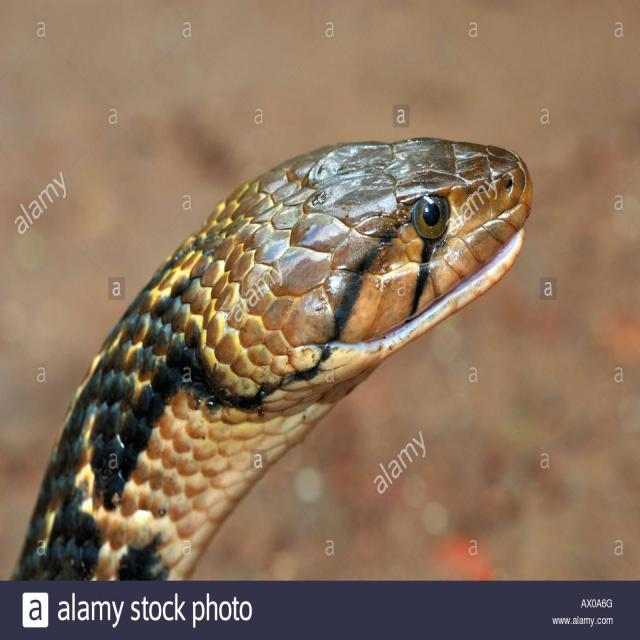Snake: (10, 134, 532, 581)
